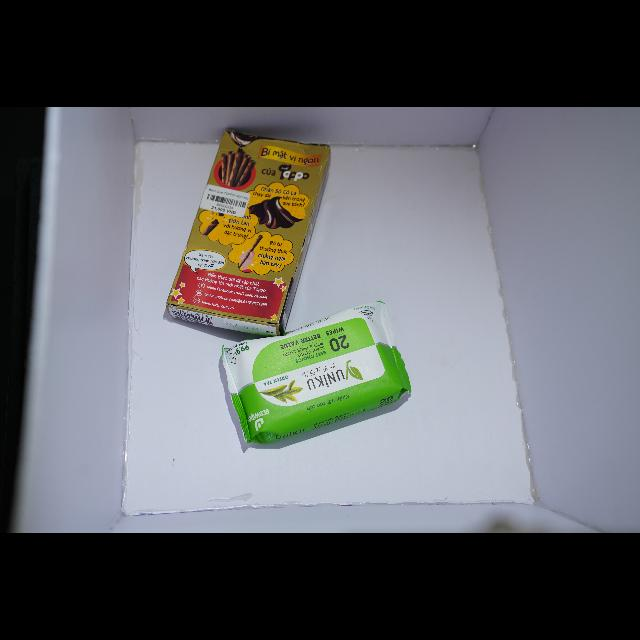banh_toppo_socola: (167, 130, 330, 336)
khan_giay: (222, 302, 411, 444)
